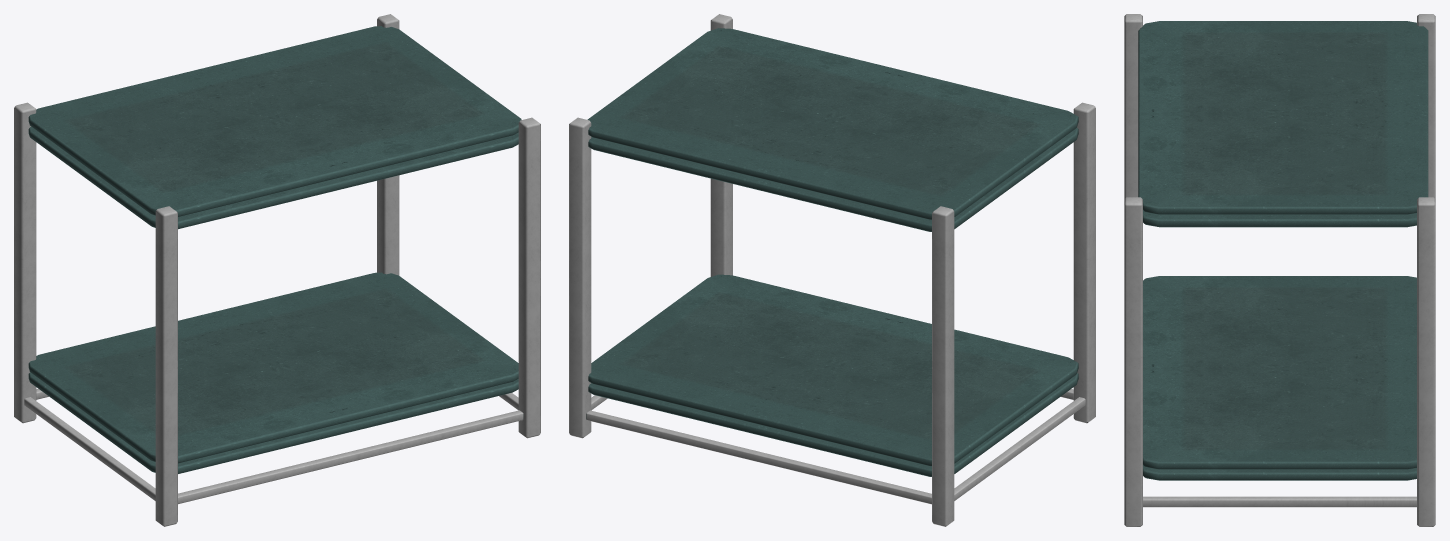
Rendered from SM_Support_Table.fbx.
3 renders of one model, left to right at view 1: azimuth 30°, elevation 25°; view 2: azimuth 150°, elevation 25°; view 3: azimuth 270°, elevation 25°, orthographic. The views are drawn at different scales.
Parts seen in each view (by area): view 1: SM_Support_Table_LOD0; view 2: SM_Support_Table_LOD0; view 3: SM_Support_Table_LOD0.
Boxes of the visible parts, x1,y1,x2,y2 form: SM_Support_Table_LOD0: (14,14,540,526); SM_Support_Table_LOD0: (569,14,1095,526); SM_Support_Table_LOD0: (1124,14,1435,526).
Size of the model in its own units: 109 by 74.86 by 85.88.
Materials: 1 (1 with a texture image).
